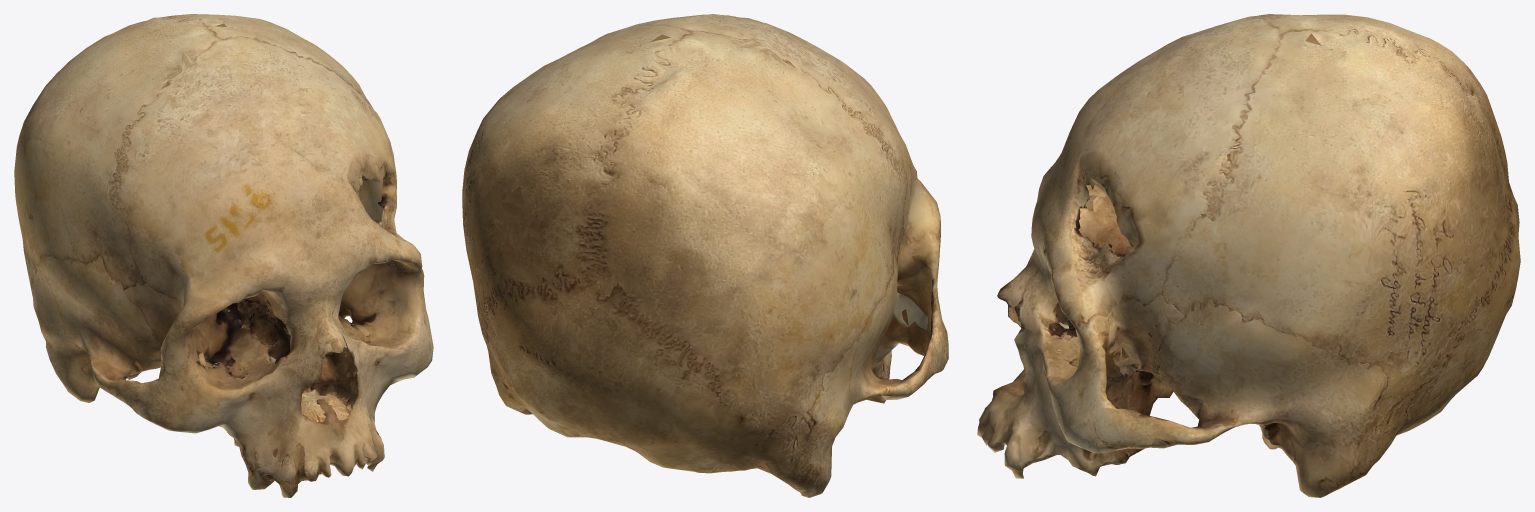
The picture shows the model from 3 angles, left to right: view 1: azimuth 30°, elevation 25°; view 2: azimuth 150°, elevation 25°; view 3: azimuth 270°, elevation 25°; orthographic projection. The views are drawn at different scales.
Parts seen in each view (by area): view 1: MA4269; view 2: MA4269; view 3: MA4269.
Boxes of the visible parts, <box> form: MA4269: <box>14,14,433,497</box>; MA4269: <box>462,14,948,497</box>; MA4269: <box>977,14,1520,497</box>.
Bounding box in the file's own units: 3.43 × 3.78 × 4.3.
1 material, 1 textured.
